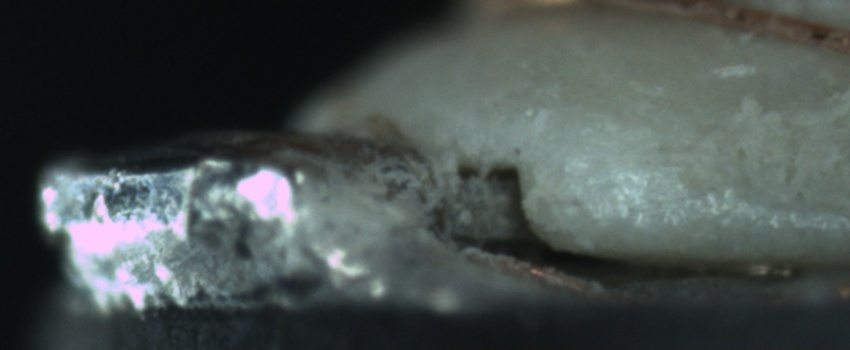DL: (556, 128, 684, 180)
